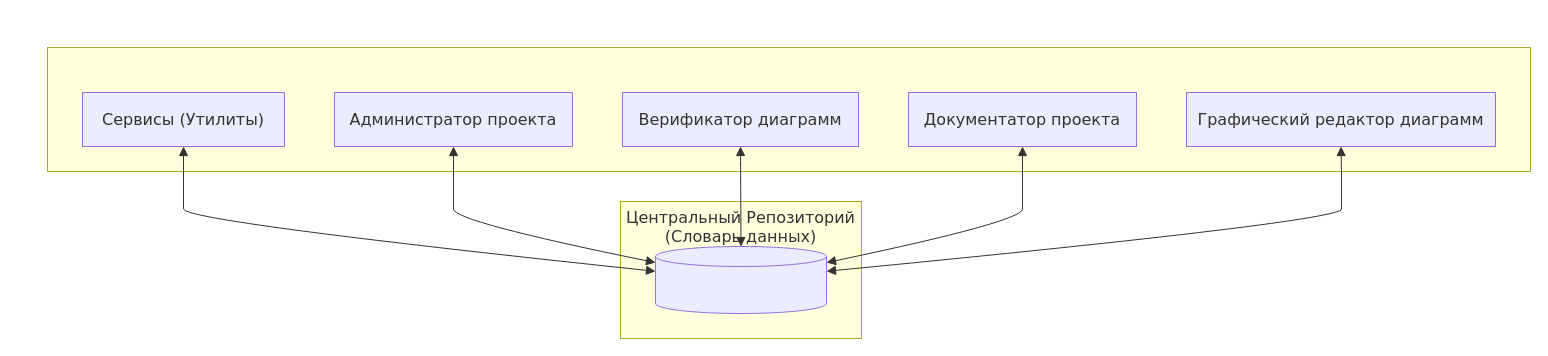
Some shapes in this 1548 by 356 pixel diagram are drawn without their labels. The shapes that lost their labels are listed below. From the top down, each one's box as (x1, y1, x2, y2) in pixels, then its label:
(46, 46, 1530, 172): Компоненты CASE-пакета
(654, 246, 826, 314): База данных проекта
